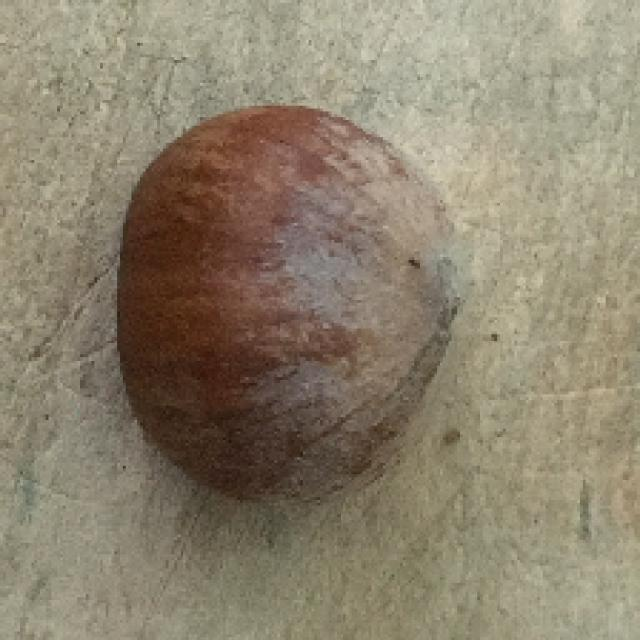QualityHazelnut: (114, 104, 467, 503)
